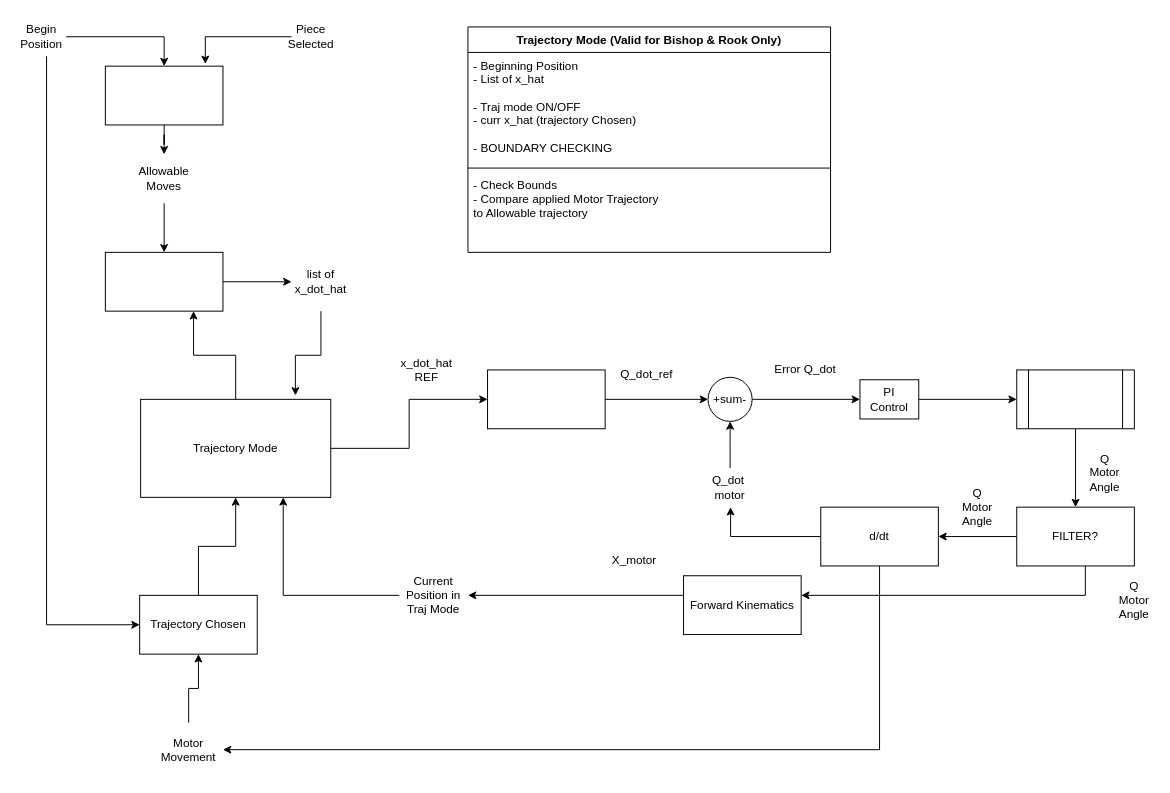
Image size: 1170x793. Some labels were removed from this diagram. Here are the shapes that lost their labels. From the top down, the centre of each, then its label:
At point 163,95: "Select Piece".
At point 163,281: "Allowable Trajectories".
At point 546,399: "J^T".
At point 1075,399: "MOTORS".
